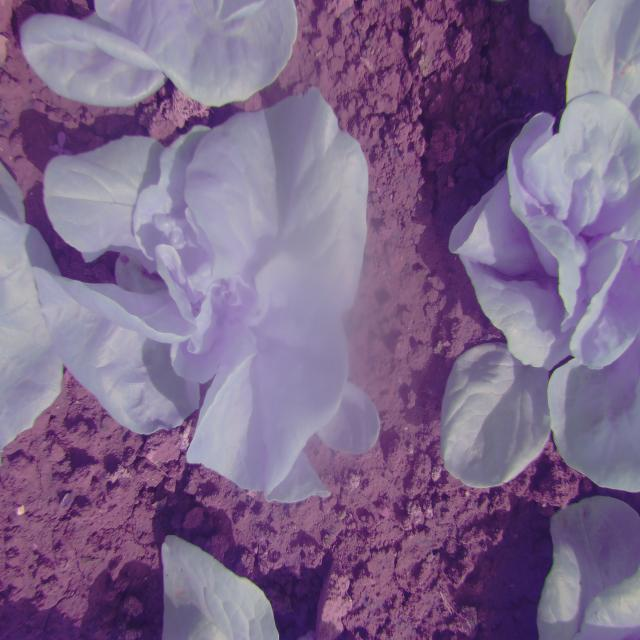vege: (45, 106, 388, 504)
